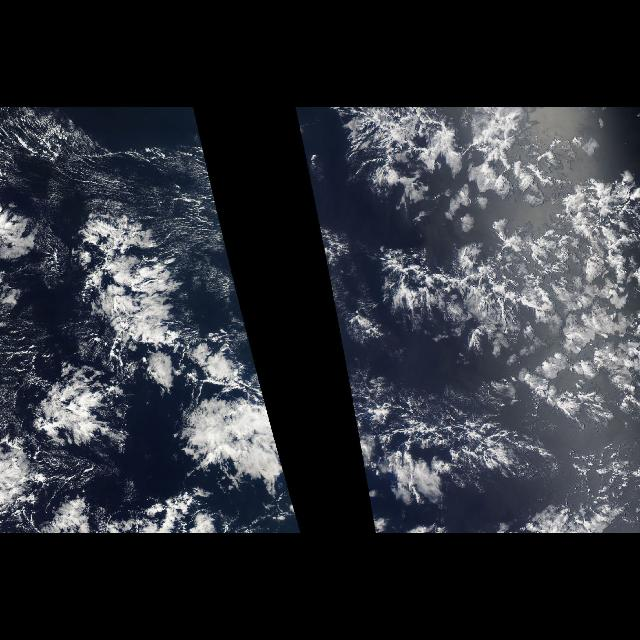Fish: (7, 199, 295, 507)
